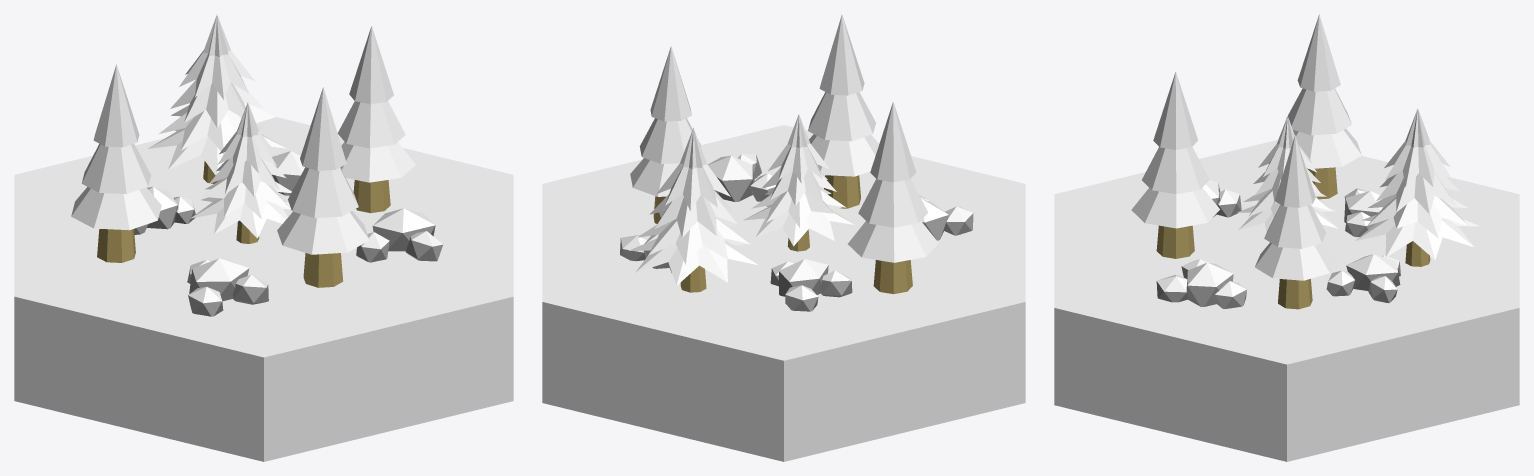
Rendered from Pinos_Rocas_Nieve.fbx.
The picture shows the model from 3 angles, left to right: view 1: azimuth 30°, elevation 25°; view 2: azimuth 150°, elevation 25°; view 3: azimuth 270°, elevation 25°; orthographic projection. The views are drawn at different scales.
Parts seen in each view (by area): view 1: Pinos_Rocas_Nieve; view 2: Pinos_Rocas_Nieve; view 3: Pinos_Rocas_Nieve.
Part boxes in pixels (x1,y1,x2,y2): Pinos_Rocas_Nieve: (14,14,513,461); Pinos_Rocas_Nieve: (542,14,1025,461); Pinos_Rocas_Nieve: (1054,14,1519,461).
Bounding box in the file's own units: 200 × 114 × 173.
